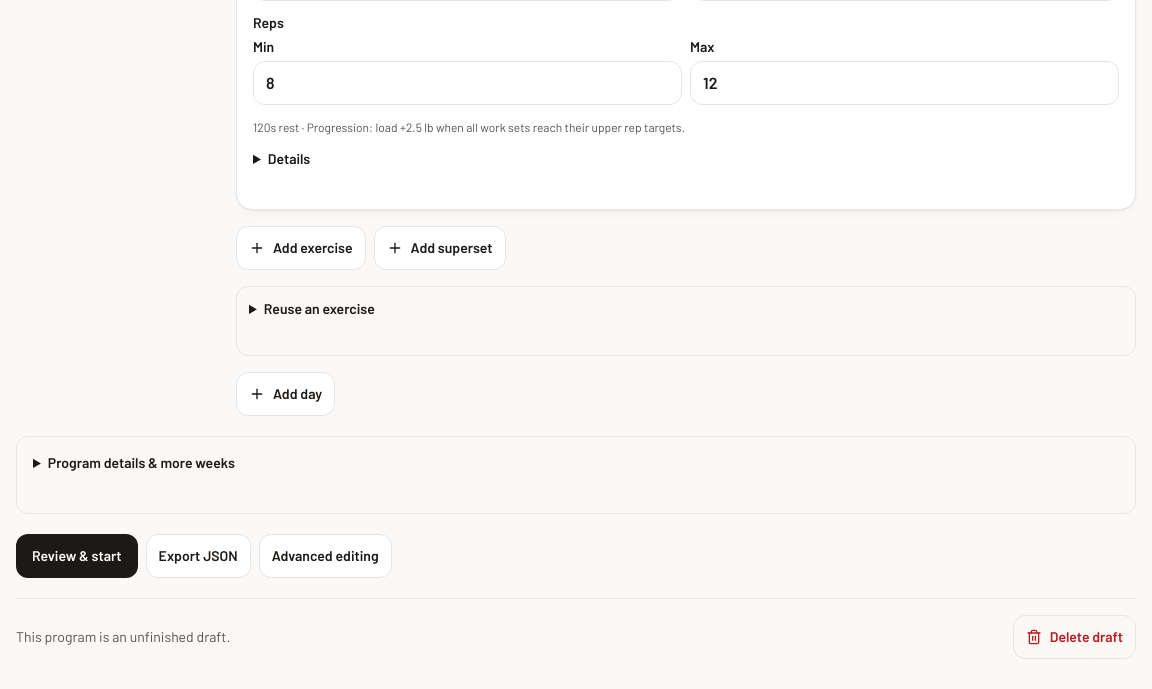
Test: program workspace recovery and authoring › surfaces unsupported export fields without losing the saved draft
(page scrolled)
Click the button "Export JSON": (198, 556) [146,534,251,578]
(page scrolled)
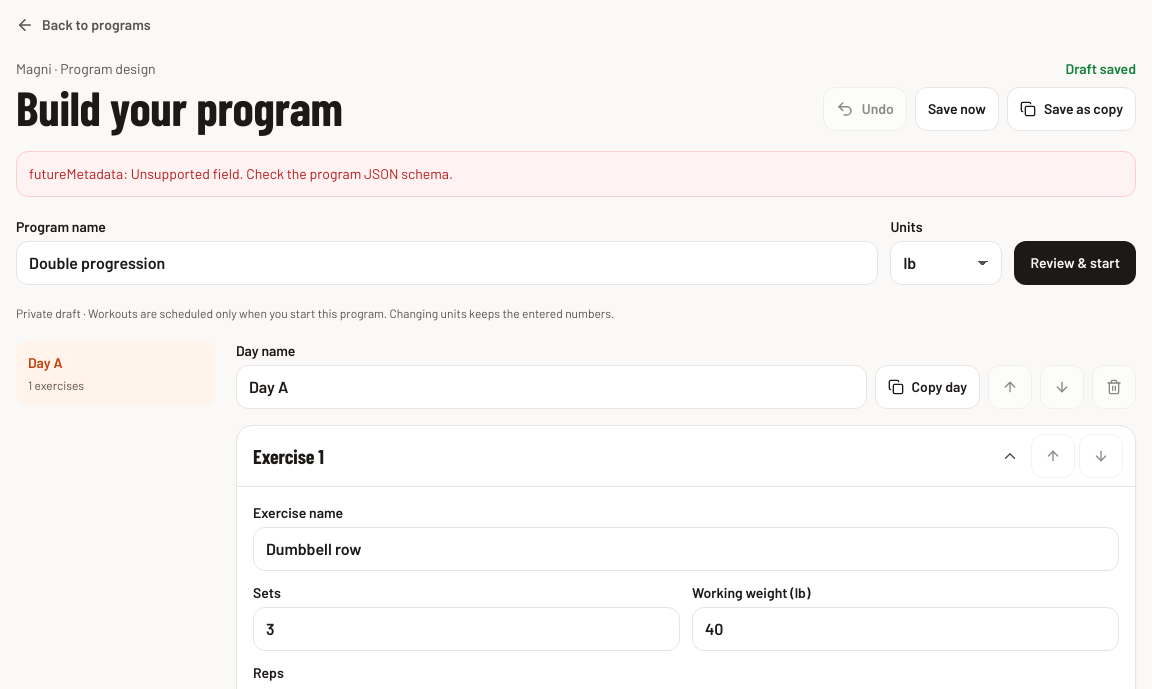
expect the field labelled "Program name" holds "Double progression": met, box [16,241,878,285]
expect the message "futureMetadata: Unsupported field. Check the program JSON schema." is shown: met, box [16,151,1136,197]
